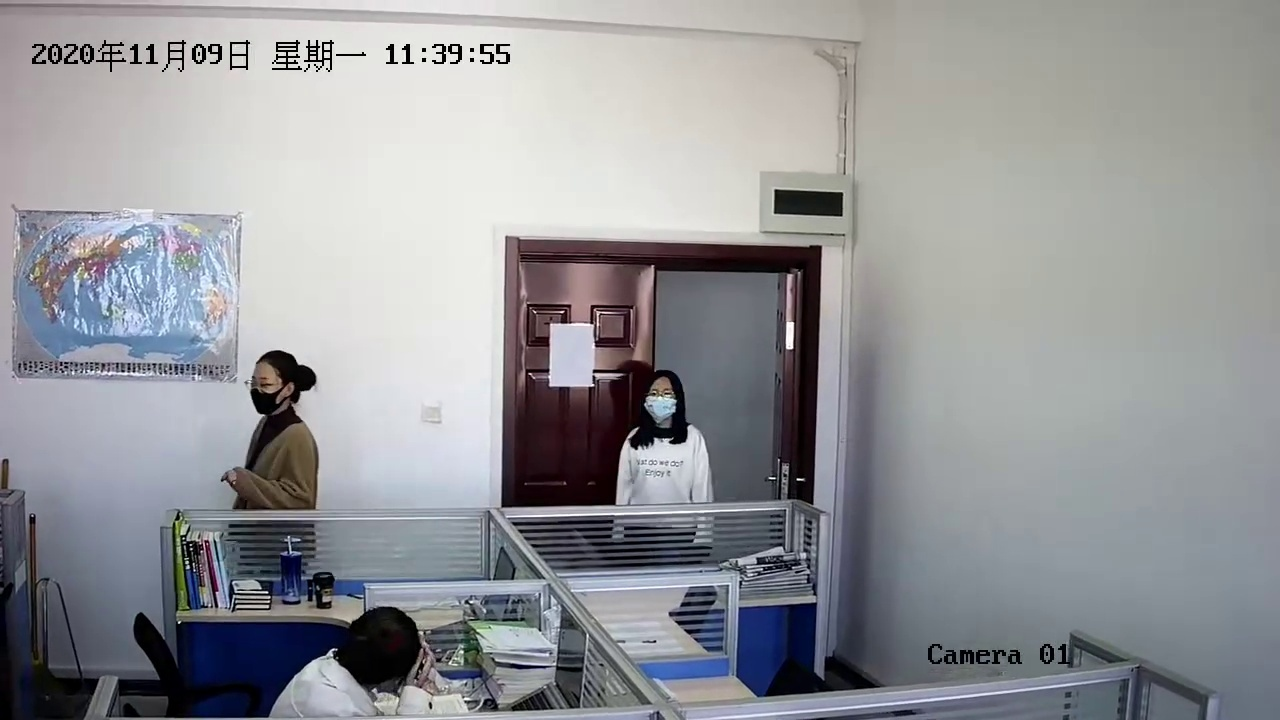mask: (246, 355, 303, 425), (641, 366, 685, 426)
